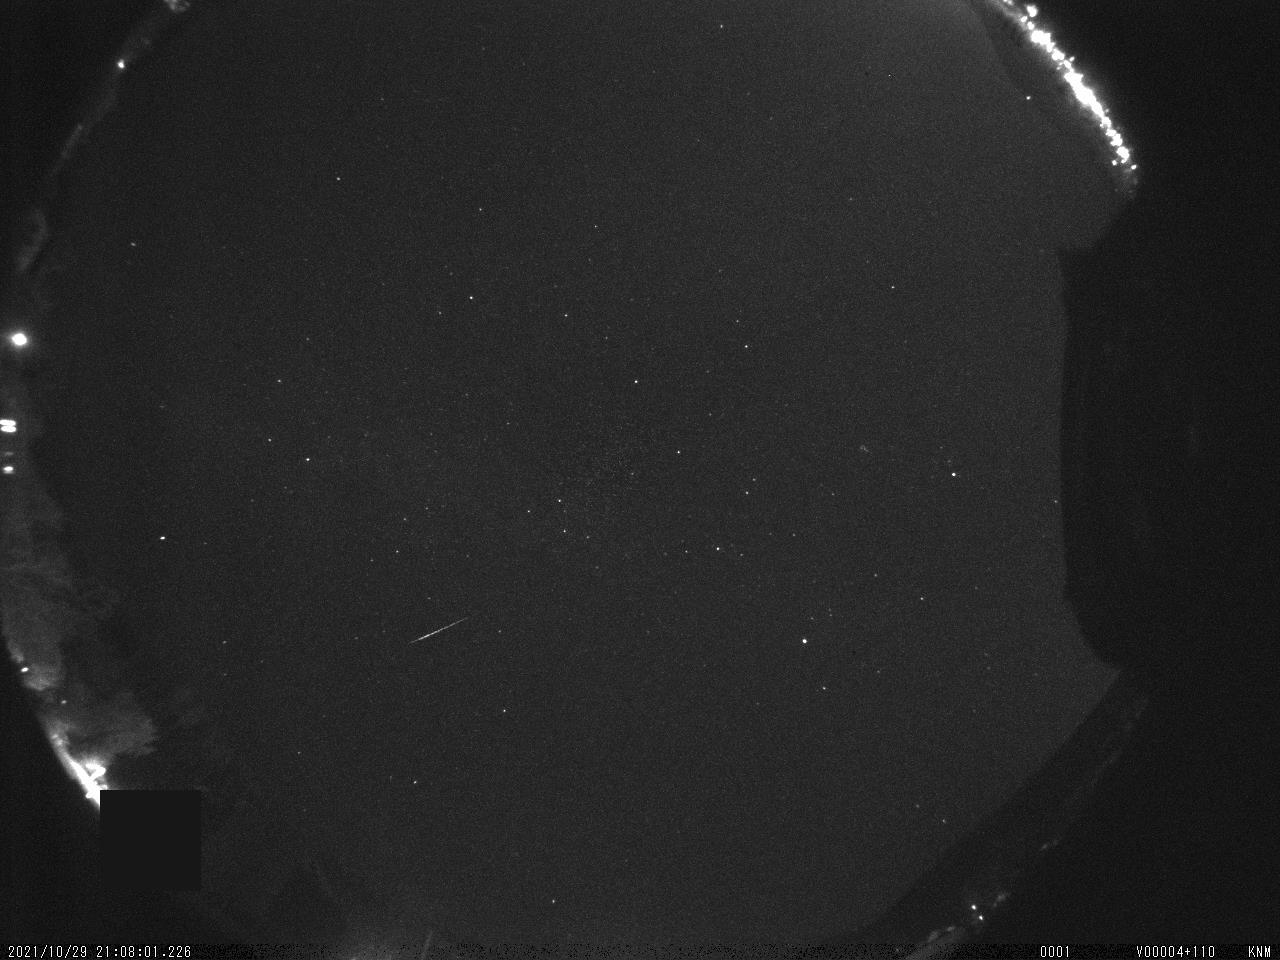meteor: (409, 608, 475, 646)
